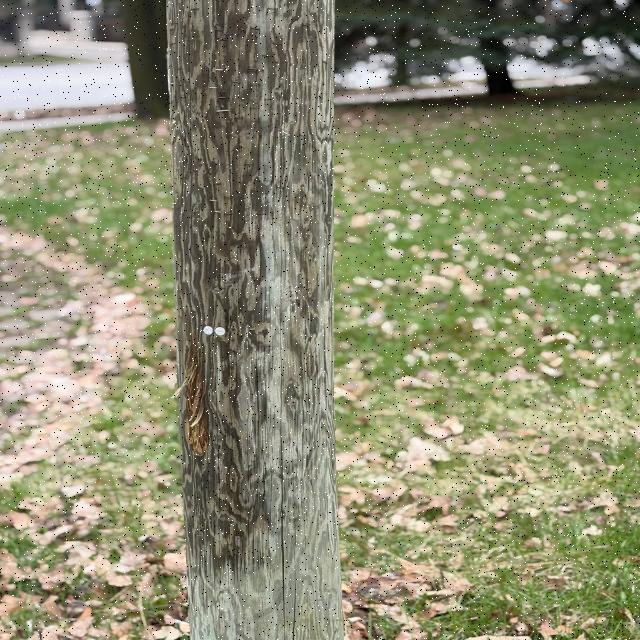Electrical Pole: (159, 0, 350, 640)
